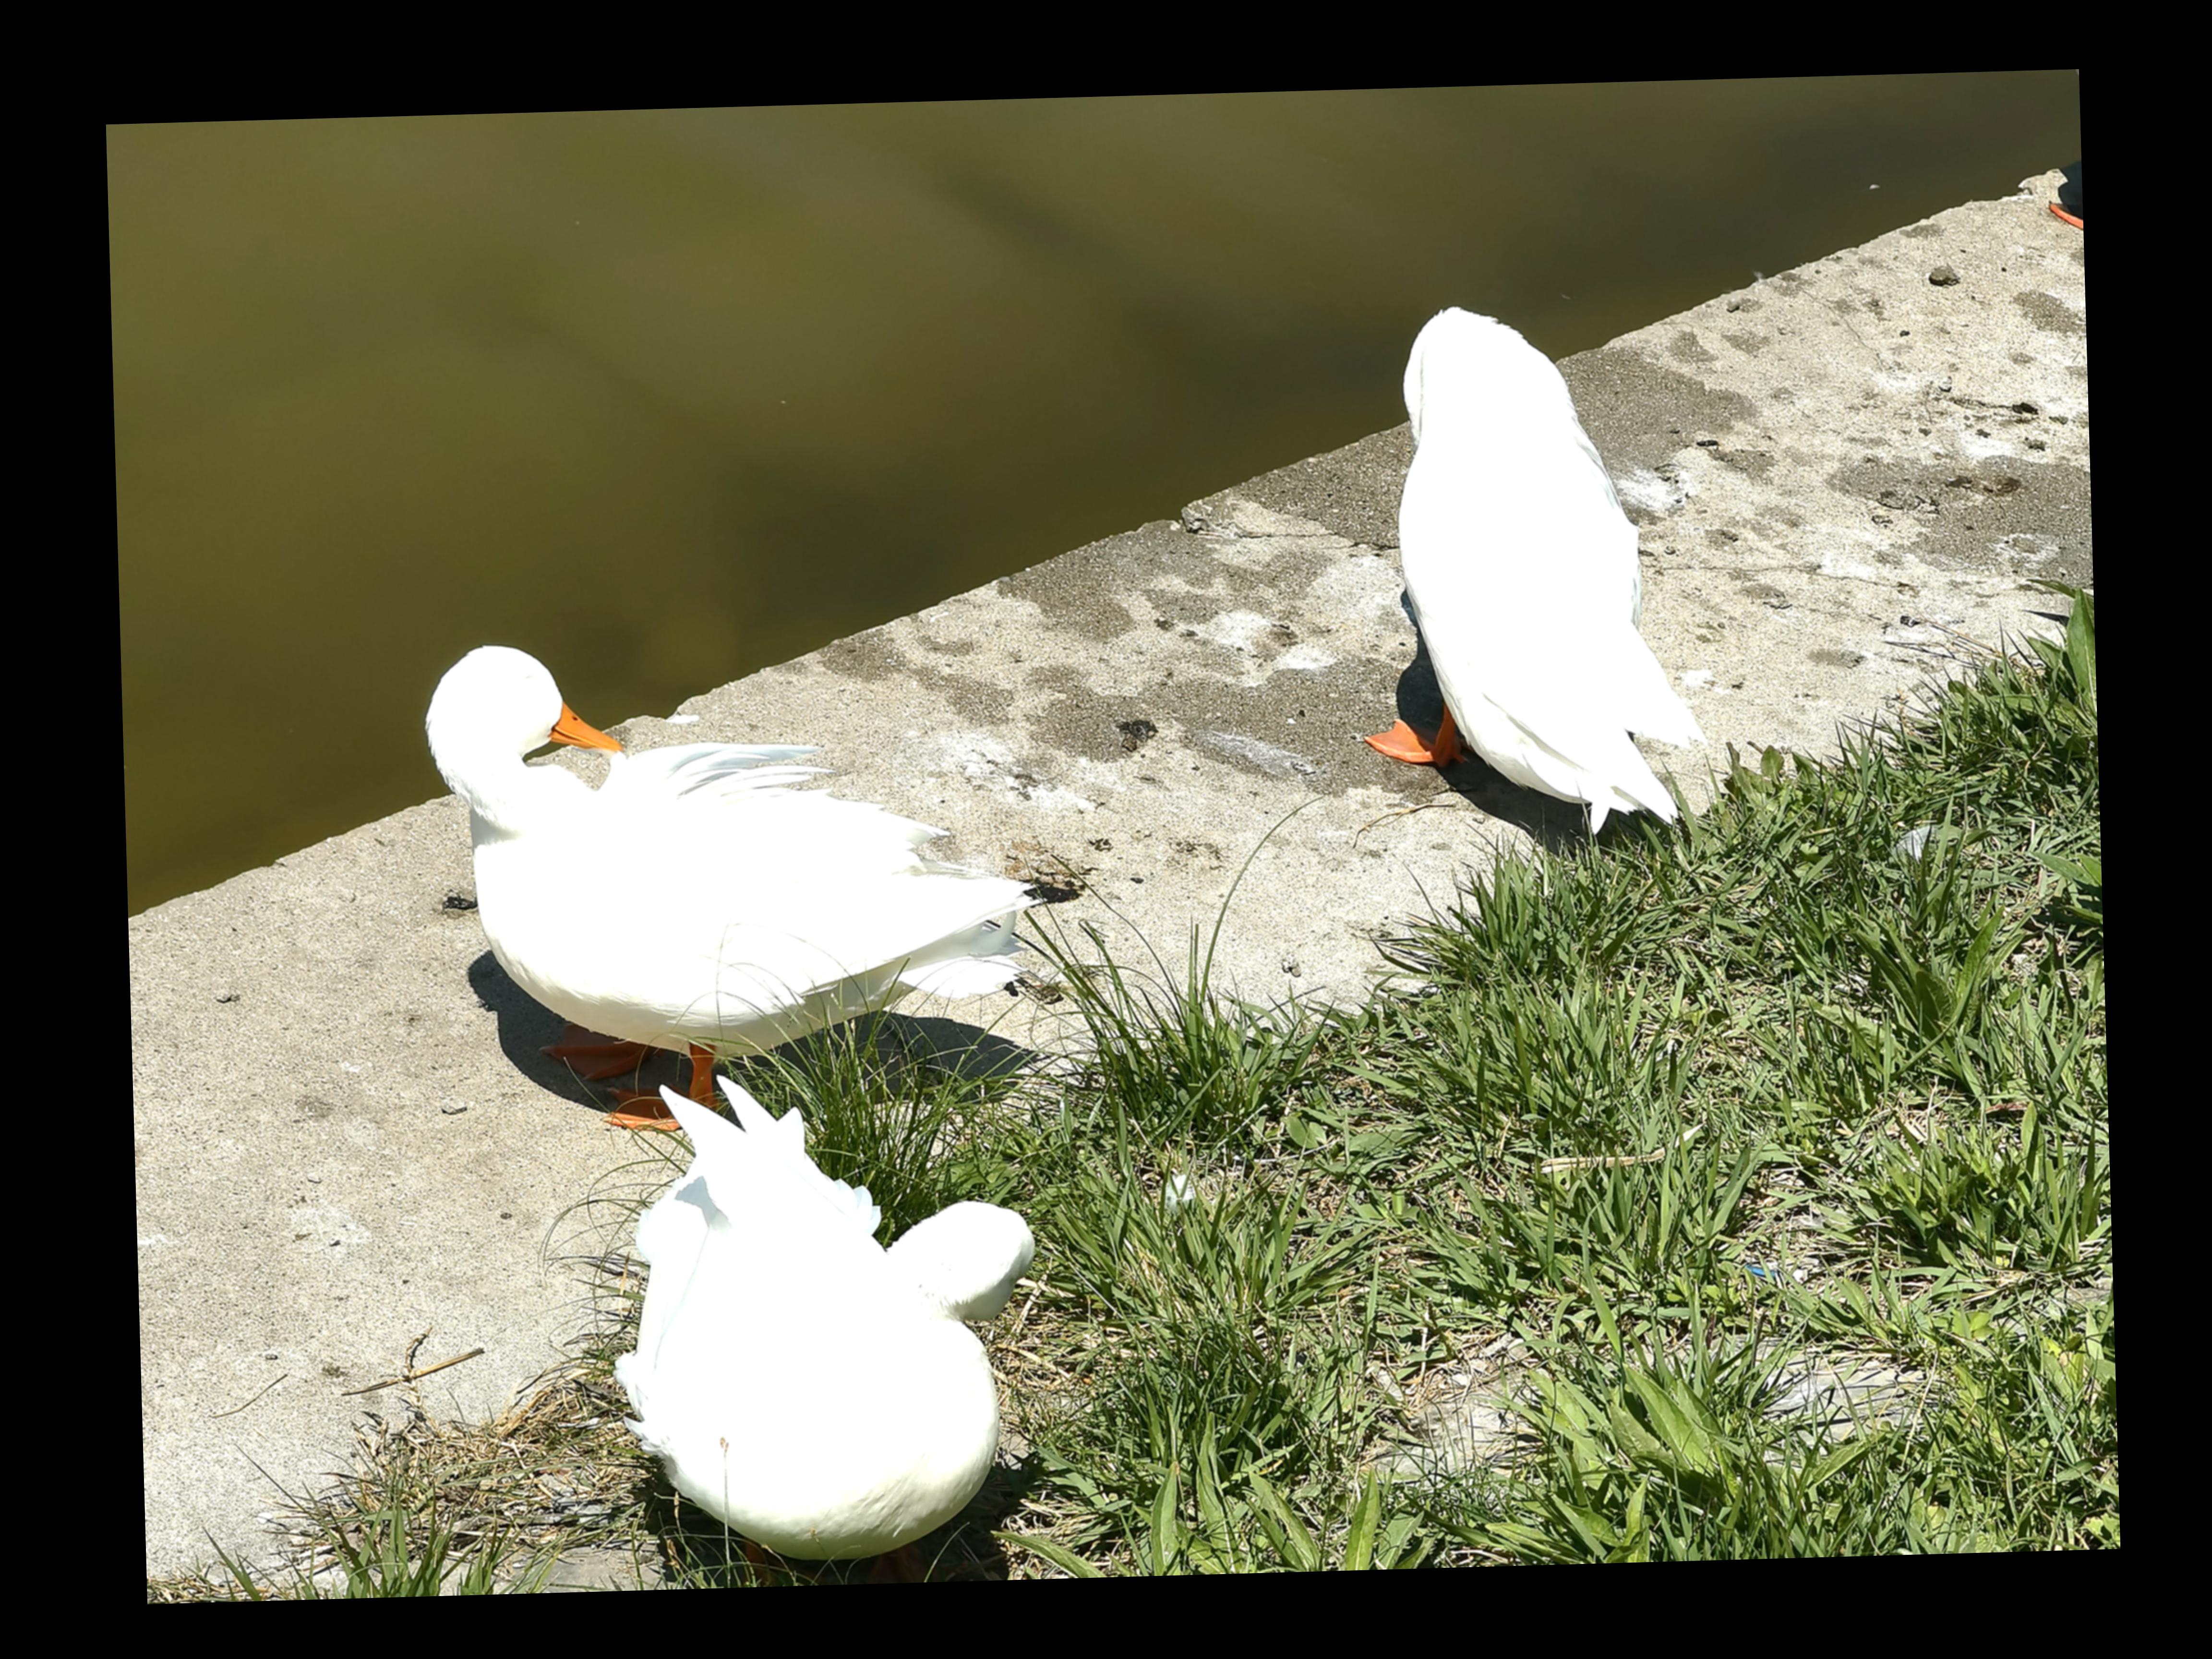duck: (382, 596, 1064, 1095), (1327, 280, 1713, 879), (578, 1082, 1054, 1555)
